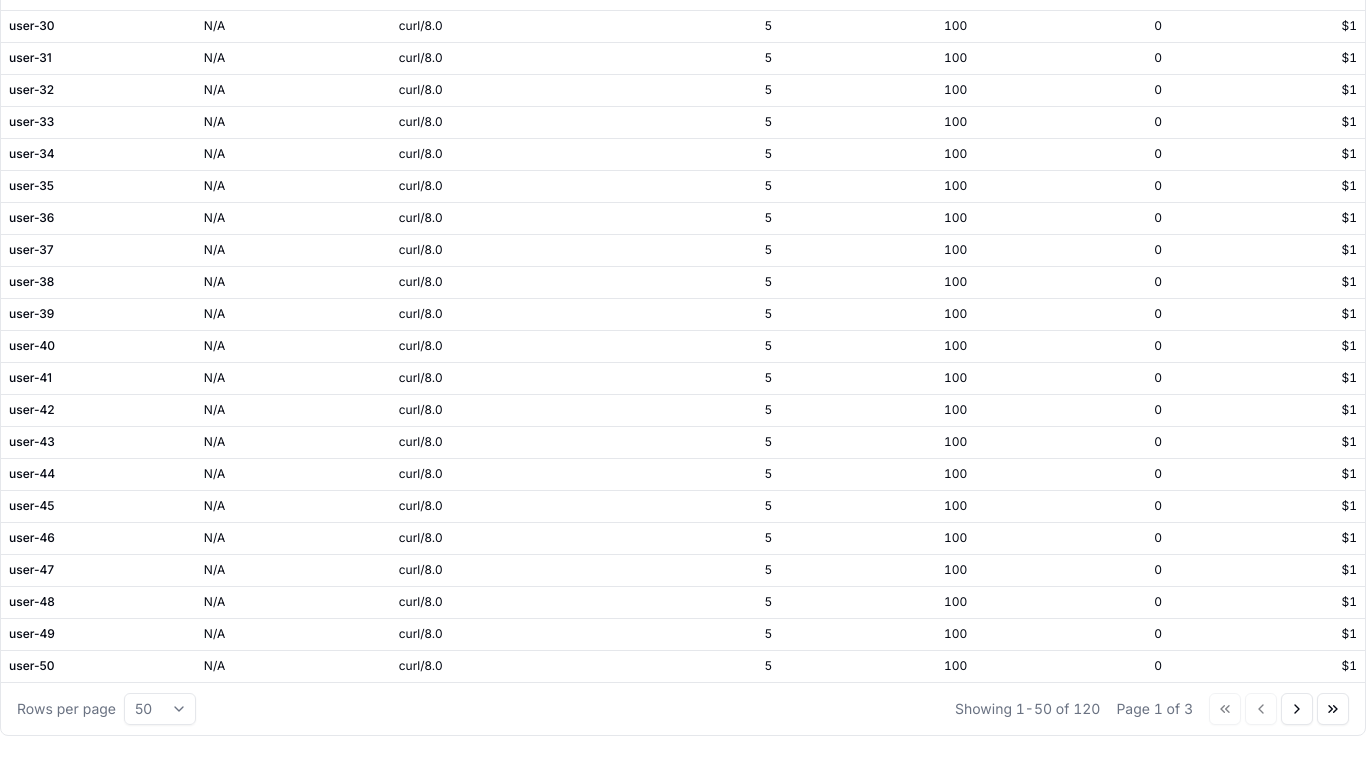
PerUserUsage › server pagination › refetches with the selected page size and goes back to the first page
(page scrolled)
Click the button with test id "pagination-next" at [1297, 709], box [1281,693,1313,725]
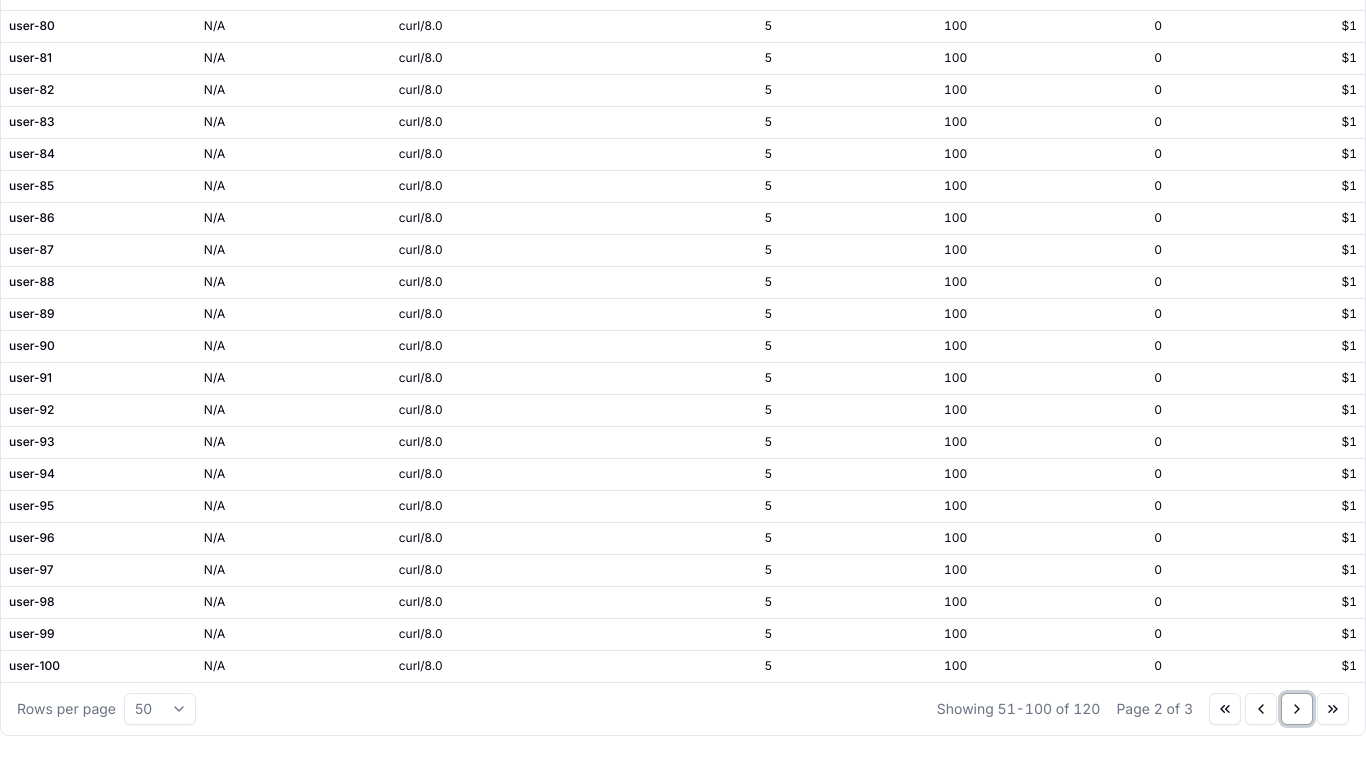
Click the dropdown with test id "pagination-page-size" at [160, 709], box [124,693,196,725]
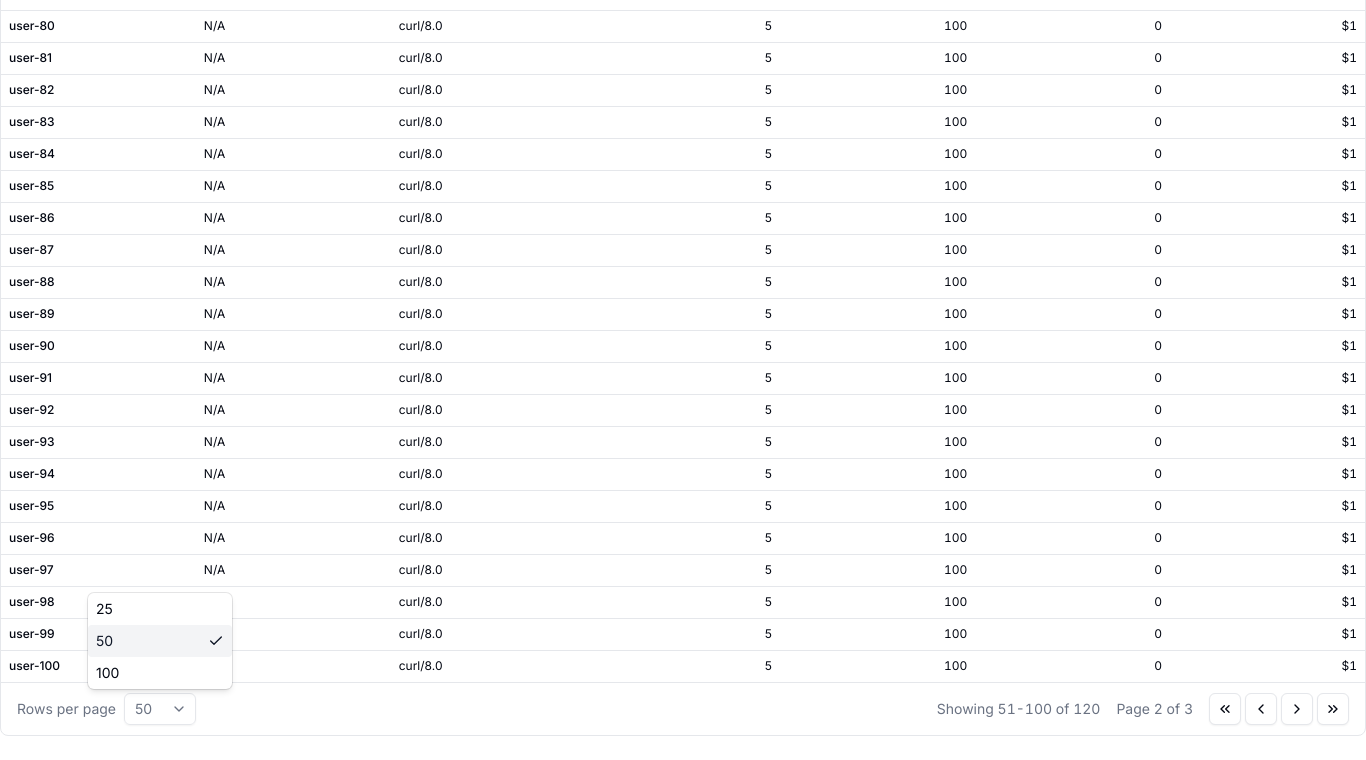
Click the option "100" at [108, 672], box [96,664,119,681]
(page scrolled)
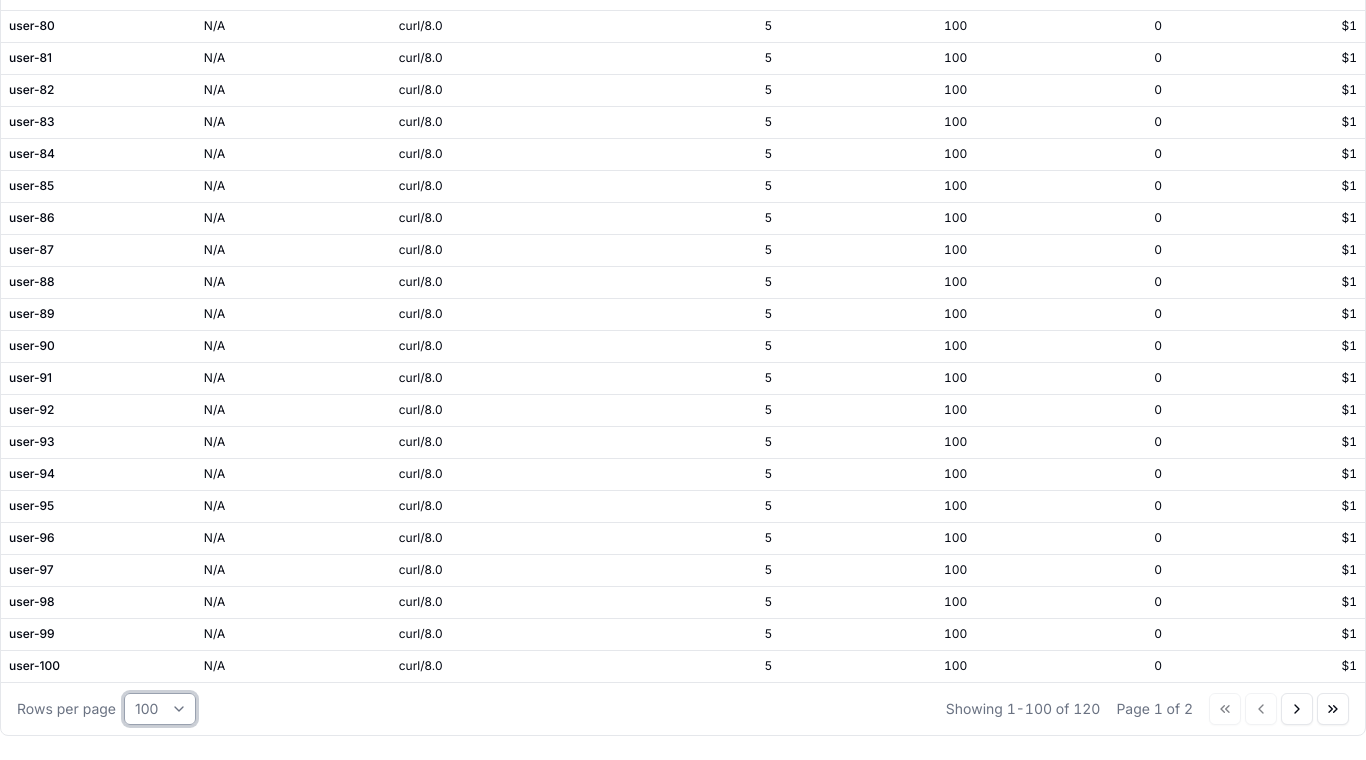
Now the text "user-100" is shown, box [9,658,60,673]
Now the text with test id "pagination-range" reads "Showing 1-100 of 120", box [946,700,1100,717]
